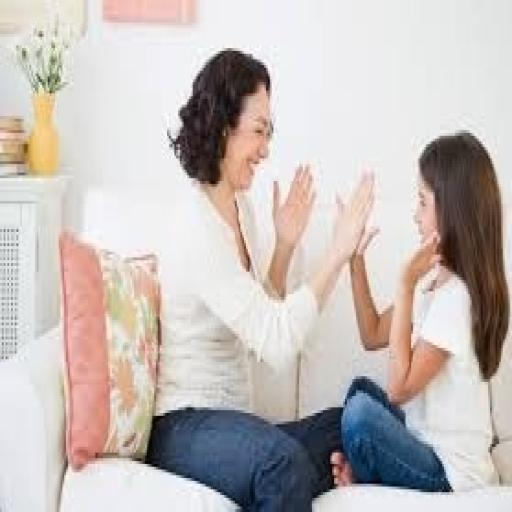clapping: (145, 45, 376, 509), (329, 127, 510, 495)
